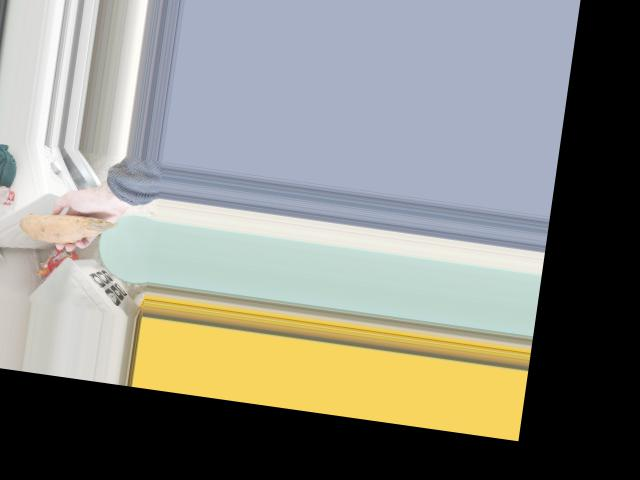sweet_potato: (27, 206, 107, 250)
